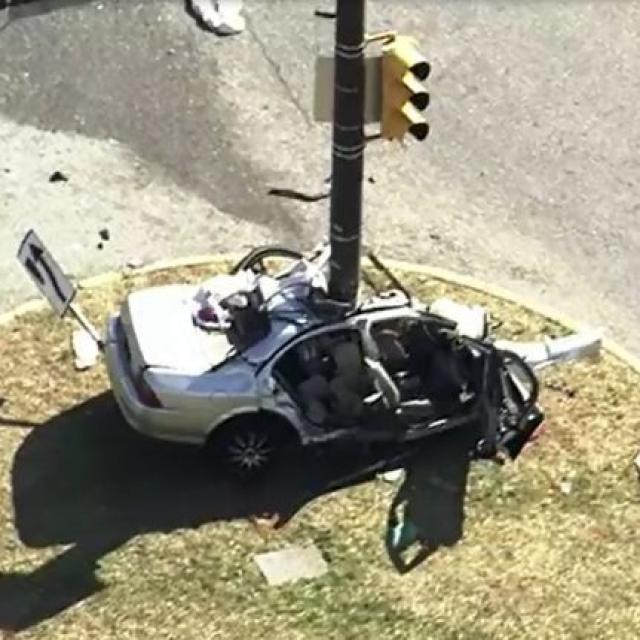traffic_incident: (112, 247, 552, 486)
